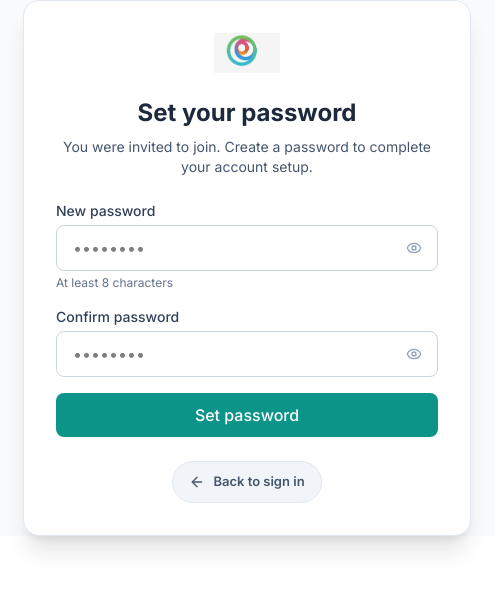
Test case: SetPassword › shows error when passwords do not match
Type "Password1!" into the password field labelled "New password" at x=247, y=248, box [56,225,438,271]
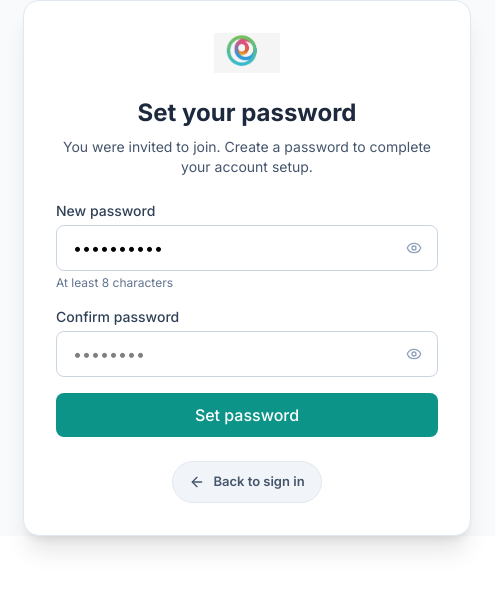
Type "Different!" into the password field labelled "Confirm password" at x=247, y=354, box [56,331,438,377]
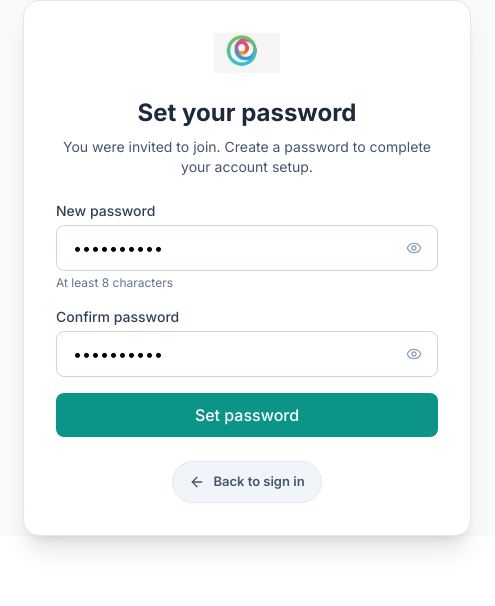
Click the button "Set password" at x=247, y=415, box [56,393,438,437]
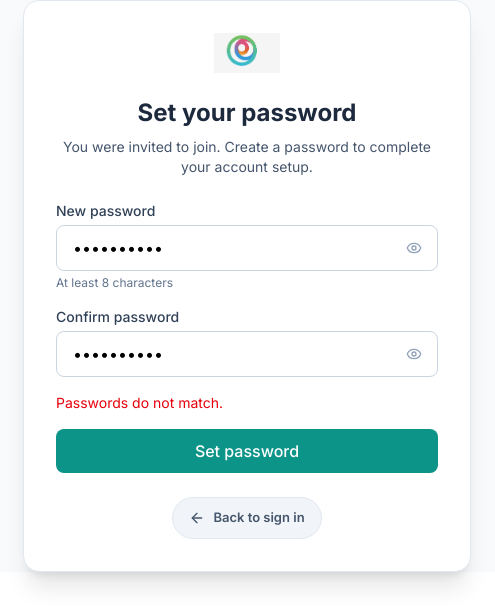
Expected: the text "Passwords do not match." is shown, [56,394,223,411]
